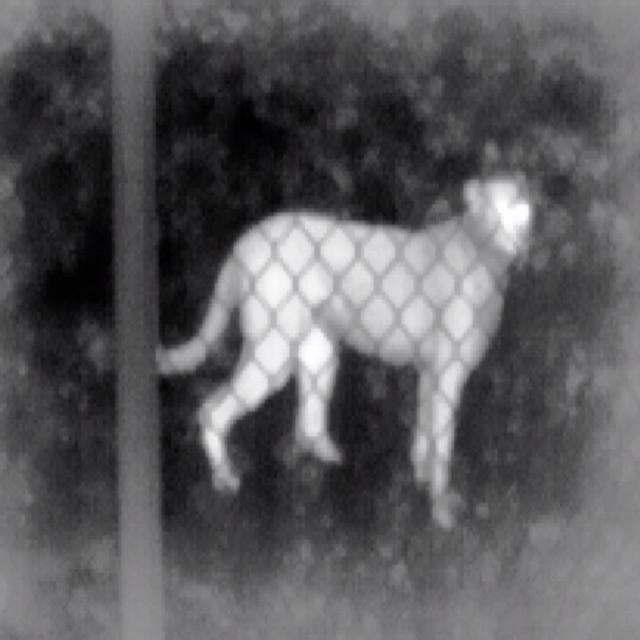cheetah: (155, 178, 530, 530)
